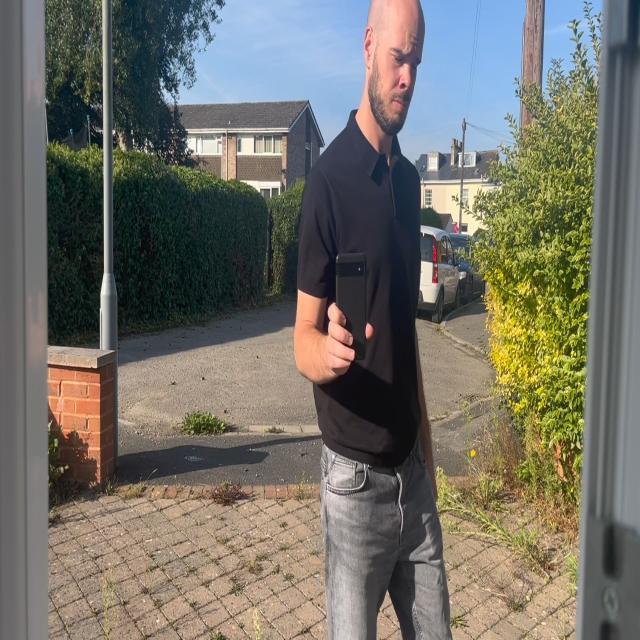lens: (355, 264, 363, 274)
phone: (335, 252, 368, 362)
